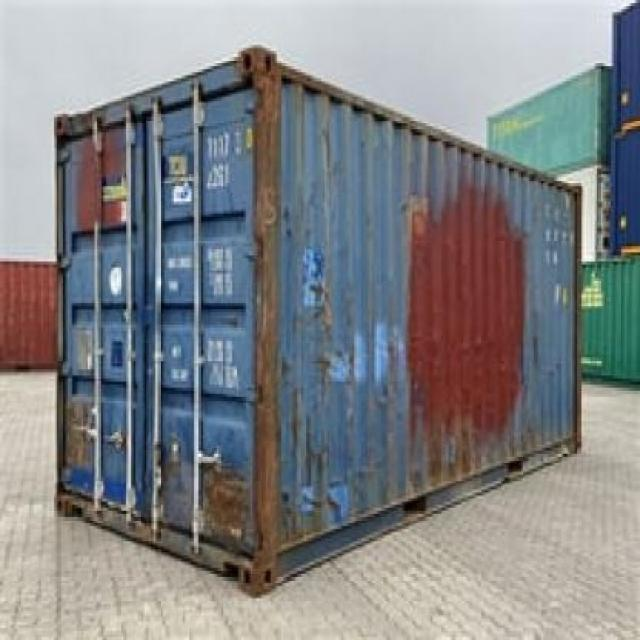rust: (407, 171, 536, 476), (239, 46, 278, 600), (293, 387, 341, 513), (204, 468, 250, 557), (278, 492, 326, 561), (312, 360, 335, 387)
